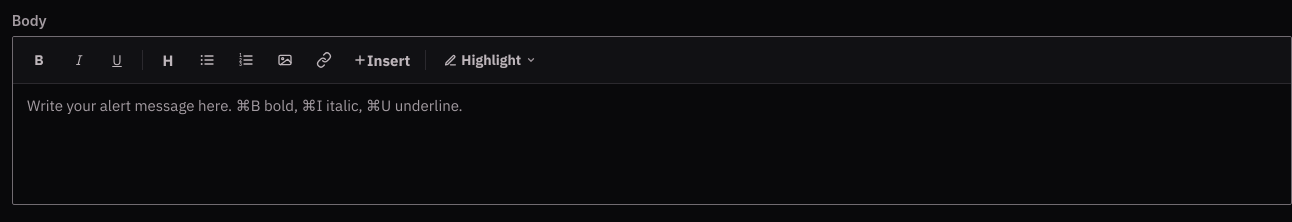
AlertBodyEditor › shows one tooltip for Italic with no native title
Hover over the button named "Italic".
mouse_move(78, 60)  # box [61, 44, 95, 76]
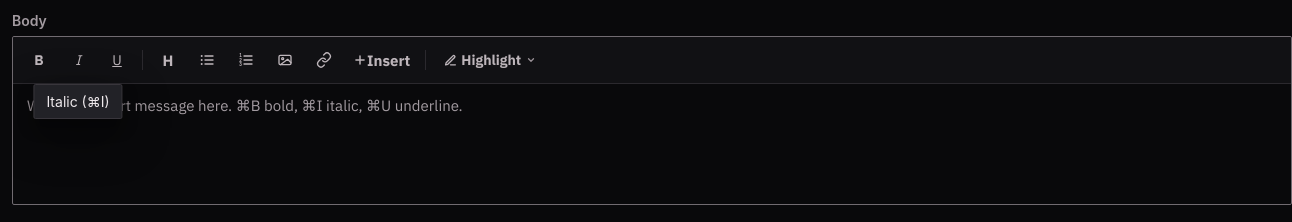
Expected: the tooltip "Italic (⌘I)" is shown, [33, 84, 123, 119]
